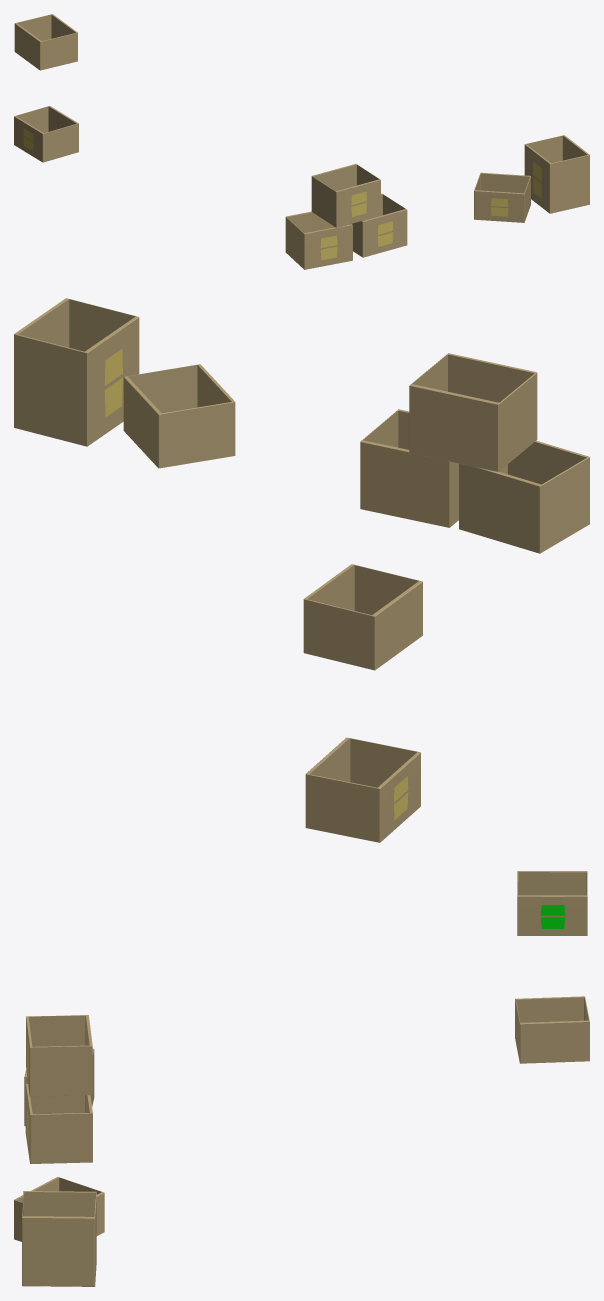
File: randombox.glb
The picture shows the model from 3 angles, top to bottom: view 1: azimuth 30°, elevation 25°; view 2: azimuth 150°, elevation 25°; view 3: azimuth 270°, elevation 25°; orthographic projection. The views are drawn at different scales.
Visible parts, largest first — view 1: Cube.020, Cube.023, Cube.022, Cube.038, Cube.039, Cube.019, Cube.021; view 2: Cube.020, Cube.023, Cube.022, Cube.039, Cube.038, Cube.019, Cube.021; view 3: Cube.020, Cube.023, Cube.038, Cube.039, Cube.021, Cube.019.
Boxes of the visible parts, left/top/right/bottom form: Cube.020: left=524, top=135, right=589, bottom=213; Cube.023: left=311, top=164, right=380, bottom=227; Cube.022: left=285, top=211, right=352, bottom=269; Cube.038: left=14, top=106, right=78, bottom=162; Cube.039: left=14, top=14, right=77, bottom=70; Cube.019: left=474, top=172, right=530, bottom=222; Cube.021: left=352, top=193, right=407, bottom=257; Cube.020: left=14, top=298, right=139, bottom=446; Cube.023: left=409, top=353, right=537, bottom=471; Cube.022: left=459, top=440, right=589, bottom=553; Cube.039: left=303, top=564, right=422, bottom=670; Cube.038: left=305, top=737, right=420, bottom=842; Cube.019: left=123, top=364, right=235, bottom=468; Cube.021: left=360, top=409, right=458, bottom=527; Cube.020: left=22, top=1191, right=96, bottom=1286; Cube.023: left=26, top=1015, right=92, bottom=1096; Cube.038: left=515, top=996, right=589, bottom=1063; Cube.039: left=517, top=871, right=587, bottom=935; Cube.021: left=25, top=1084, right=92, bottom=1163; Cube.019: left=14, top=1177, right=104, bottom=1241.
Size of the model in its own units: 3.25 by 1.01 by 3.16.
